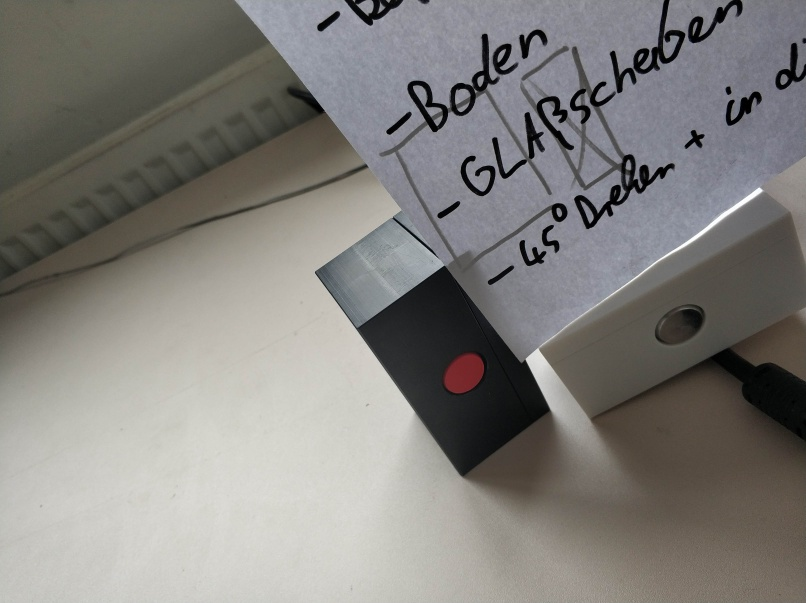black+black+red: (311, 207, 552, 481)
white+white+silver: (533, 184, 806, 425)
